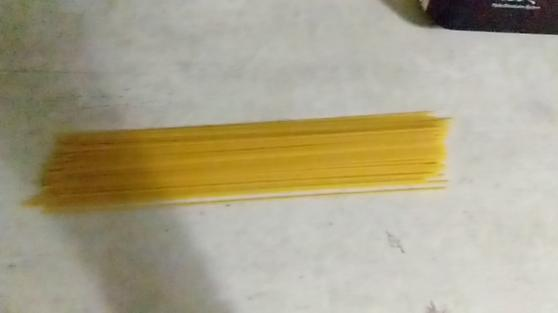spaghetti: (27, 109, 456, 220)
